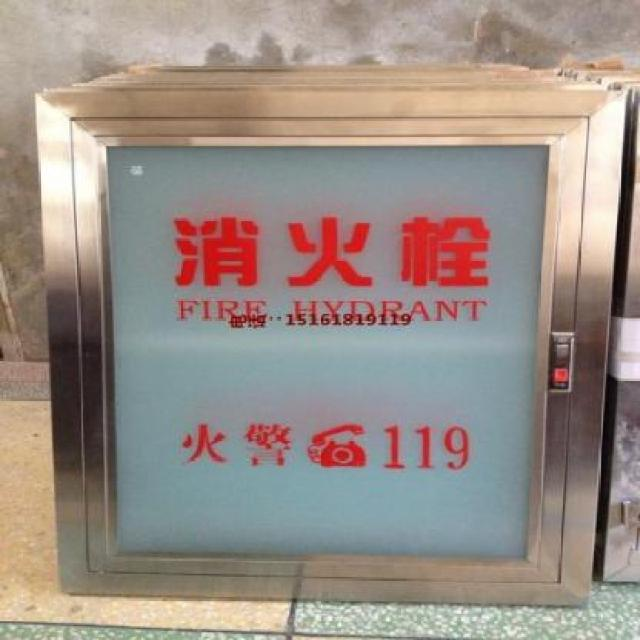firehydrant: (30, 57, 632, 615)
